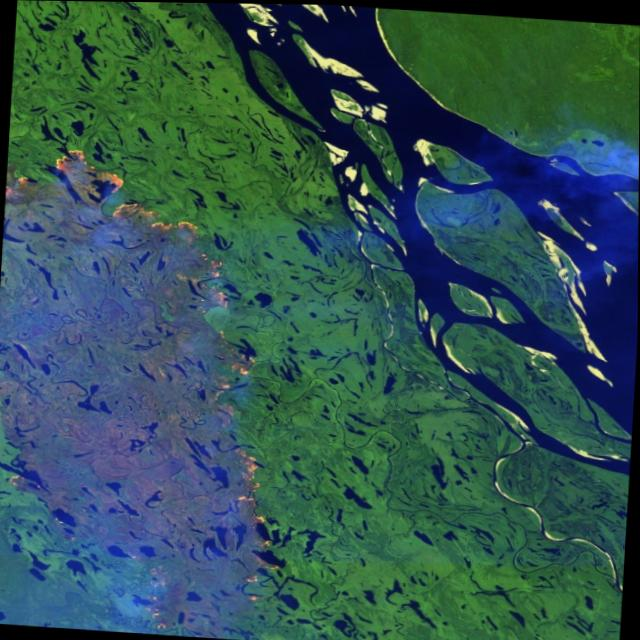fire: (0, 139, 305, 620)
